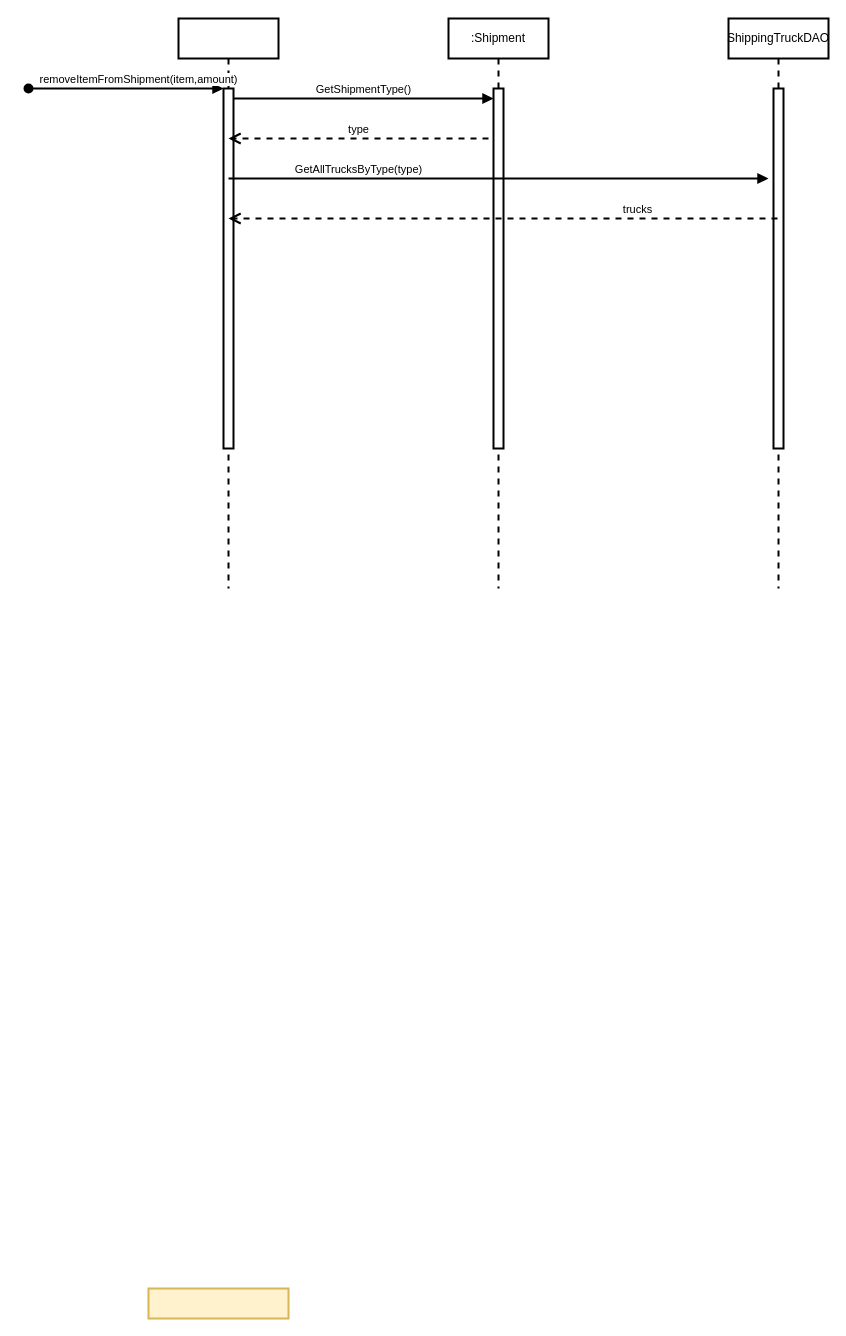
Image size: 846x1336. Some labels were removed from this diagram. Each missing label, with the box of its shape:
executer: executerFacade: (177, 17, 279, 589)
if shipment not found: (147, 1287, 289, 1319)
